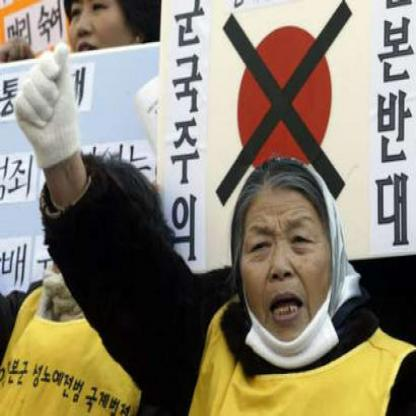face: (239, 163, 333, 356), (68, 1, 137, 81)
